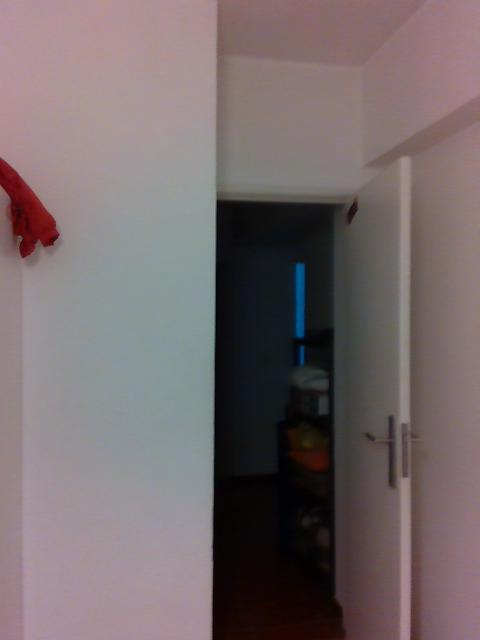open_door: (211, 185, 364, 638)
